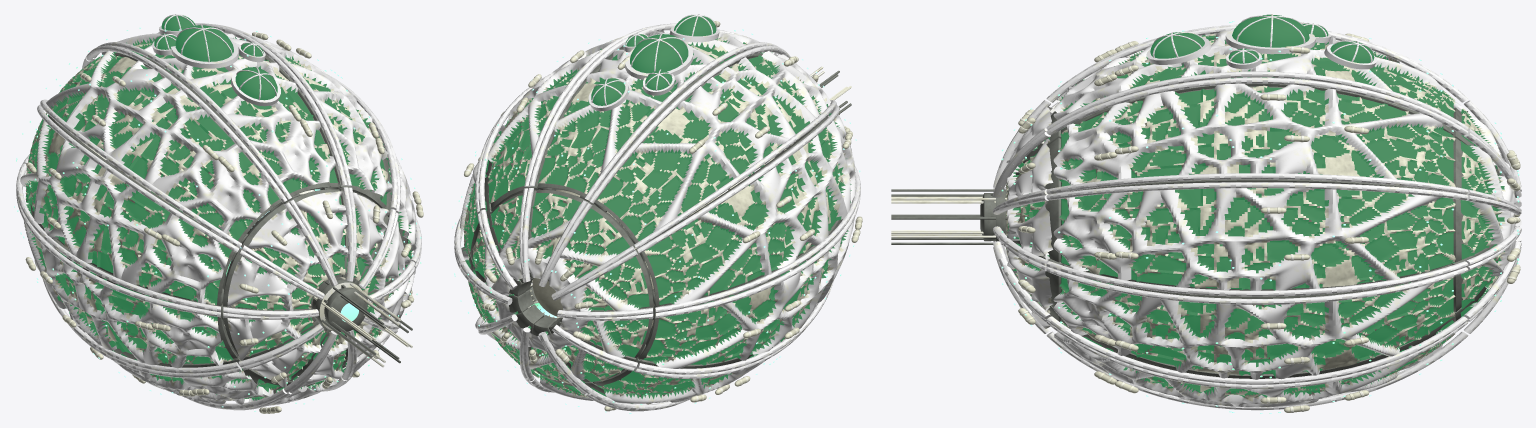
Rendered from weltenkruemmer.veyari.rig.glb.
The picture shows the model from 3 angles, left to right: view 1: azimuth 30°, elevation 25°; view 2: azimuth 150°, elevation 25°; view 3: azimuth 270°, elevation 25°; orthographic projection. The views are drawn at different scales.
Parts seen in each view (by area): view 1: platte_01, platte_02, platte_03, platte_00, platte_09, tuerme_oben, platte_04, klappe_vorn_01, klappe_vorn_02, klappe_vorn_00, klappe_vorn_03, klappe_vorn_09 (+11 smaller); view 2: platte_01, platte_02, platte_03, platte_00, platte_09, tuerme_oben, platte_04, klappe_hinten_01, klappe_hinten_02, klappe_hinten_00, klappe_hinten_03, klappe_hinten_09 (+9 smaller); view 3: platte_08, platte_09, platte_07, platte_00, platte_06, tuerme_oben, klappe_hinten_08, klappe_vorn_08, klappe_hinten_09, klappe_vorn_09, klappe_hinten_07, klappe_vorn_07 (+8 smaller).
Boxes of the visible parts, x1,y1,x2,y2 form: platte_01: [40, 45, 287, 248]; platte_02: [16, 104, 239, 312]; platte_03: [14, 170, 239, 373]; platte_00: [93, 23, 347, 199]; platte_09: [212, 24, 397, 210]; tuerme_oben: [152, 14, 280, 106]; platte_04: [63, 309, 287, 409]; klappe_vorn_01: [241, 202, 335, 297]; klappe_vorn_02: [217, 248, 323, 316]; klappe_vorn_00: [282, 185, 353, 284]; klappe_vorn_03: [213, 304, 323, 367]; klappe_vorn_09: [337, 181, 395, 287]; platte_01: [589, 46, 836, 248]; platte_02: [637, 105, 860, 312]; platte_03: [637, 191, 862, 374]; platte_00: [528, 21, 779, 200]; platte_09: [478, 24, 669, 210]; tuerme_oben: [588, 14, 719, 111]; platte_04: [589, 303, 817, 410]; klappe_hinten_01: [540, 202, 635, 298]; klappe_hinten_02: [553, 249, 659, 317]; klappe_hinten_00: [522, 188, 594, 285]; klappe_hinten_03: [553, 305, 663, 368]; klappe_hinten_09: [480, 183, 538, 288]; platte_08: [1046, 182, 1468, 296]; platte_09: [1046, 77, 1468, 194]; platte_07: [1046, 265, 1468, 384]; platte_00: [1046, 25, 1468, 134]; platte_06: [1046, 317, 1468, 413]; tuerme_oben: [1146, 14, 1377, 69]; klappe_hinten_08: [1450, 195, 1521, 266]; klappe_vorn_08: [993, 195, 1064, 266]; klappe_hinten_09: [1453, 132, 1521, 210]; klappe_vorn_09: [993, 132, 1060, 210]; klappe_hinten_07: [1444, 230, 1521, 318]; klappe_vorn_07: [993, 230, 1070, 319].
Bounding box in the file's own units: 2.07 × 2.18 × 3.33.
Materials: 6 (4 with a texture image).
